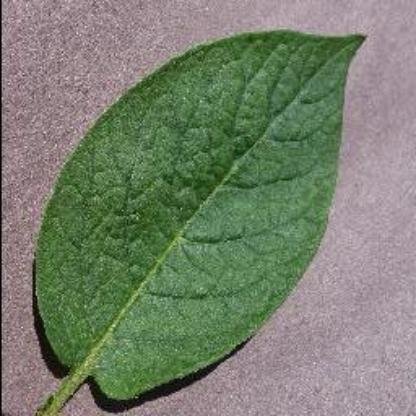Healthy-plant: (19, 23, 361, 415)
